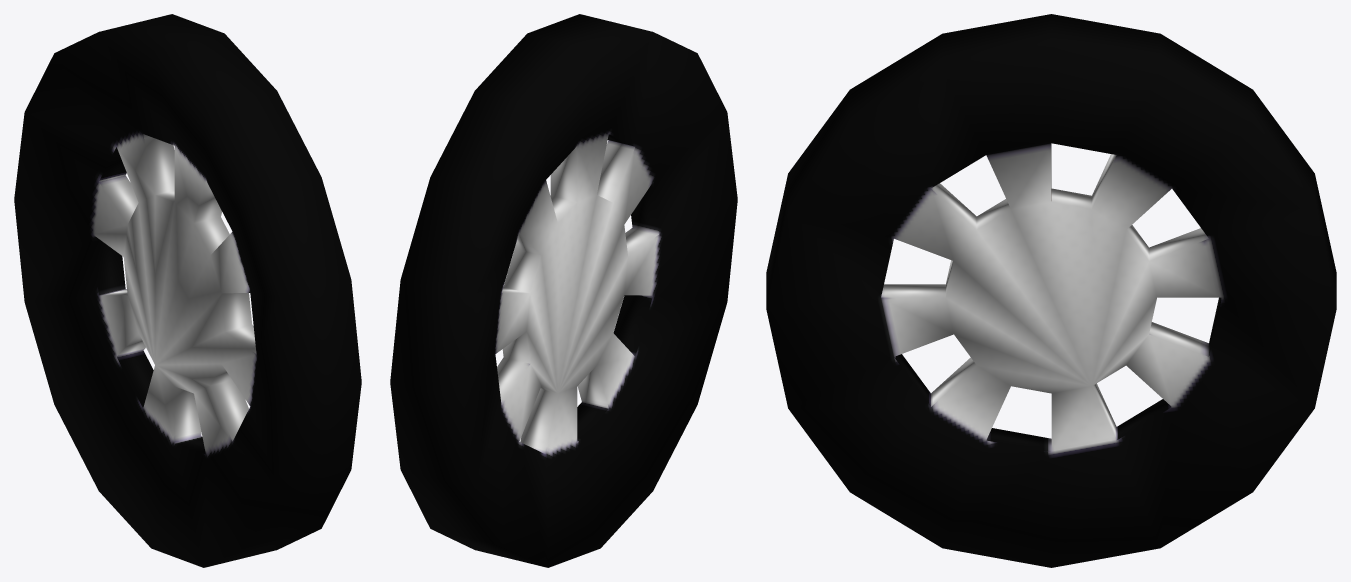
File: RatoWheel.fbx
The picture shows the model from 3 angles, left to right: view 1: azimuth 30°, elevation 25°; view 2: azimuth 150°, elevation 25°; view 3: azimuth 270°, elevation 25°; orthographic projection. The views are drawn at different scales.
Visible parts, largest first — view 1: Wheel; view 2: Wheel; view 3: Wheel.
Boxes of the visible parts, <box> form: Wheel: <box>14,14,361,567</box>; Wheel: <box>390,14,737,567</box>; Wheel: <box>766,14,1336,567</box>.
Size of the model in its own units: 37.98 by 246 by 246.
1 material, 1 textured.
